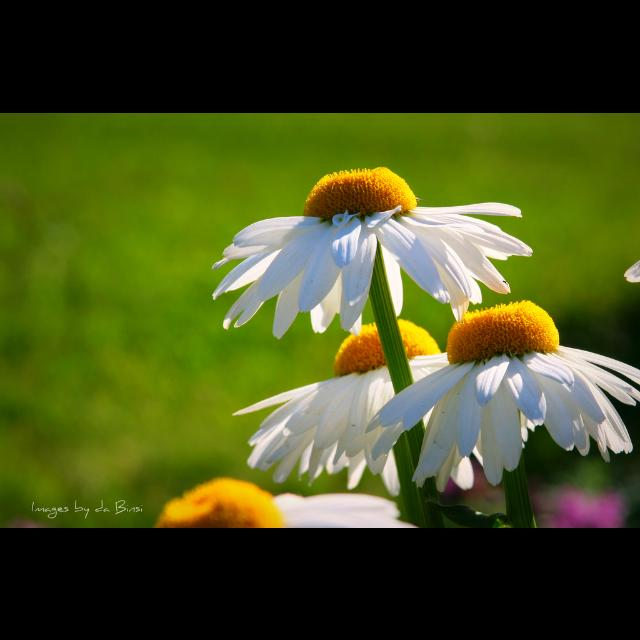Flower: (200, 158, 526, 356), (367, 298, 639, 487), (230, 313, 502, 499), (156, 490, 416, 526)
